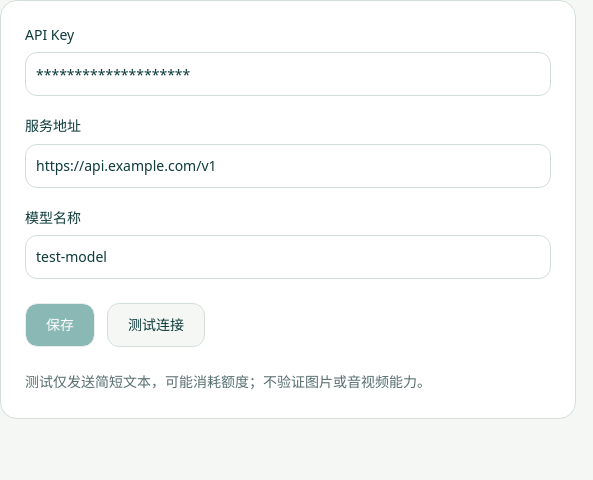
Test: AI settings form › clears a submitted key even on failure and preserves non-secret edits
In the field labelled "API Key": (288, 74) [25, 52, 551, 96], type "fake-form-key-sentinel"
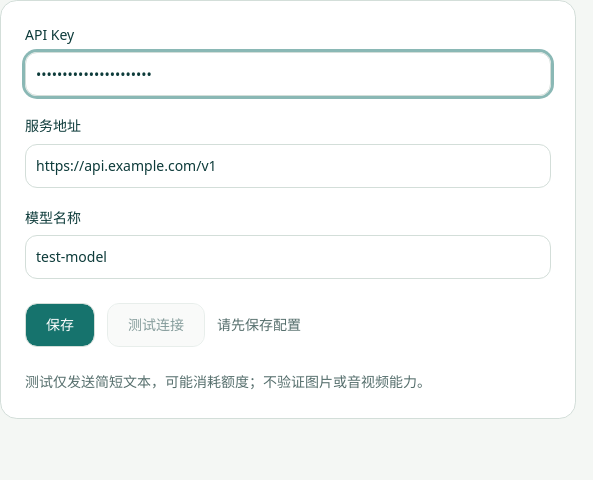
In the field labelled "模型名称": (288, 257) [25, 235, 551, 279], type "-edited"
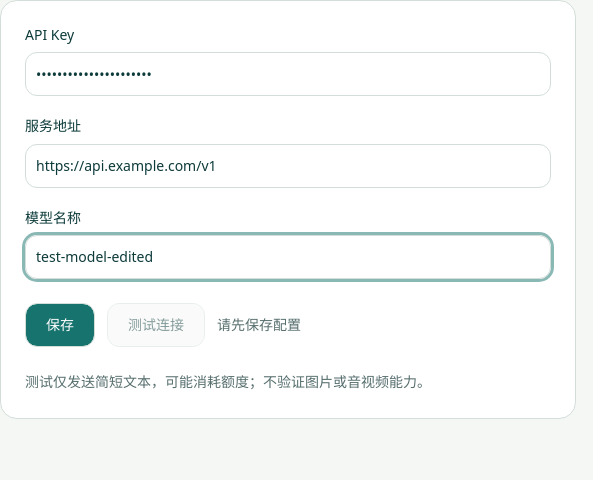
Click the button "保存": (60, 325) [25, 303, 95, 347]
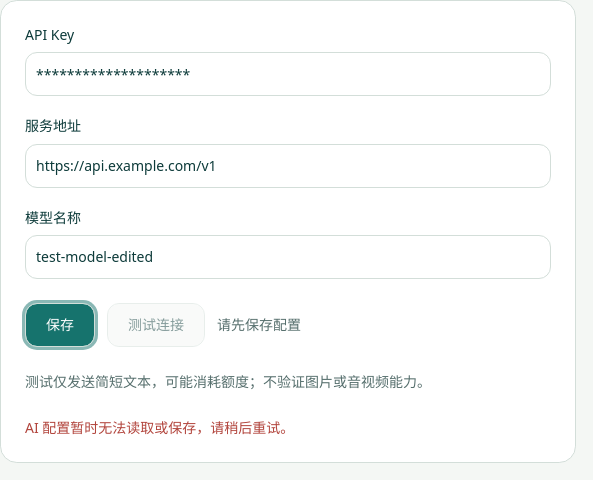
Expected: the field labelled "模型名称" holds "test-model-edited", [25, 235, 551, 279]
Expected: the message shows "AI 配置暂时无法读取或保存", [25, 418, 294, 436]
Expected: the field labelled "API Key" holds "********************", [25, 52, 551, 96]
